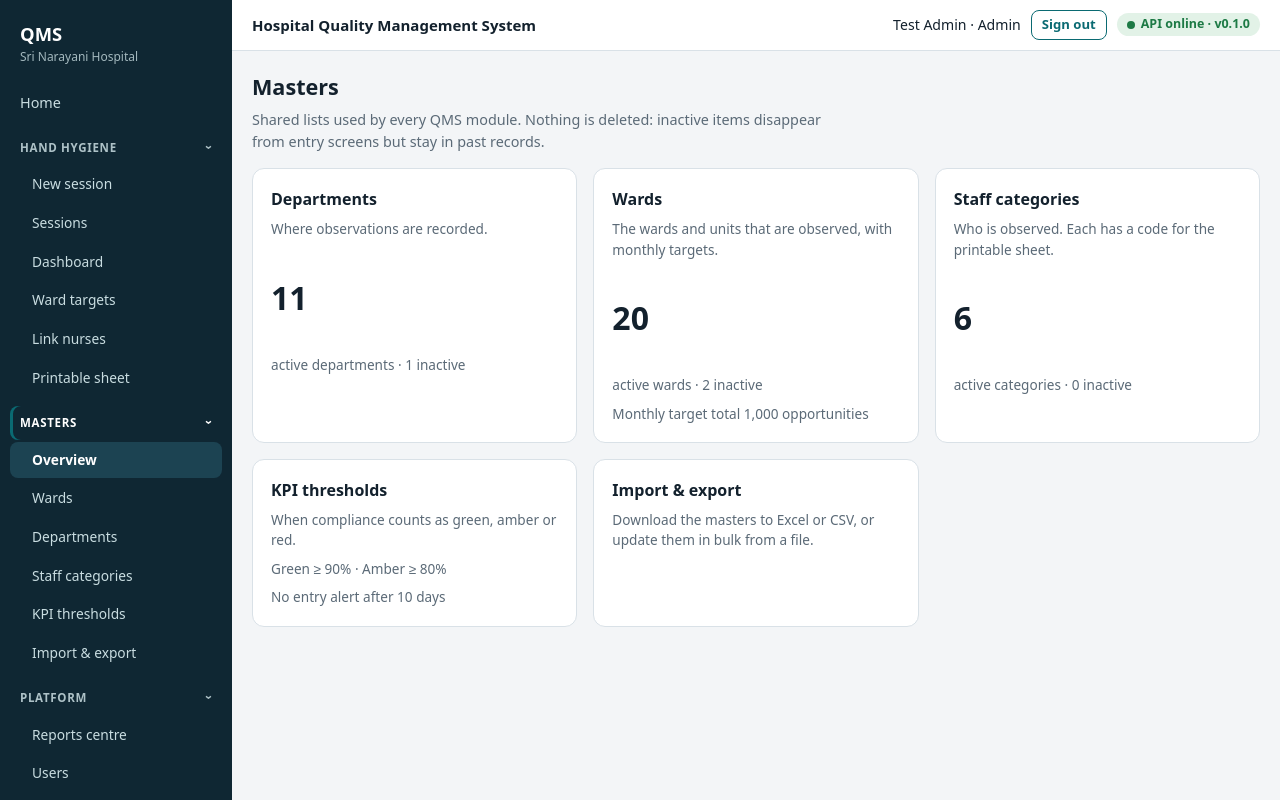
Test case: Masters overview › menu links route to each master page
The width and height of the screenshot is (1280, 800).
Expected: the text "Monthly target total 1,000 opportunities" is shown, [612,404,900,424]
Click the link "Wards" below "Overview" at (52, 498), box [32,488,73,507]
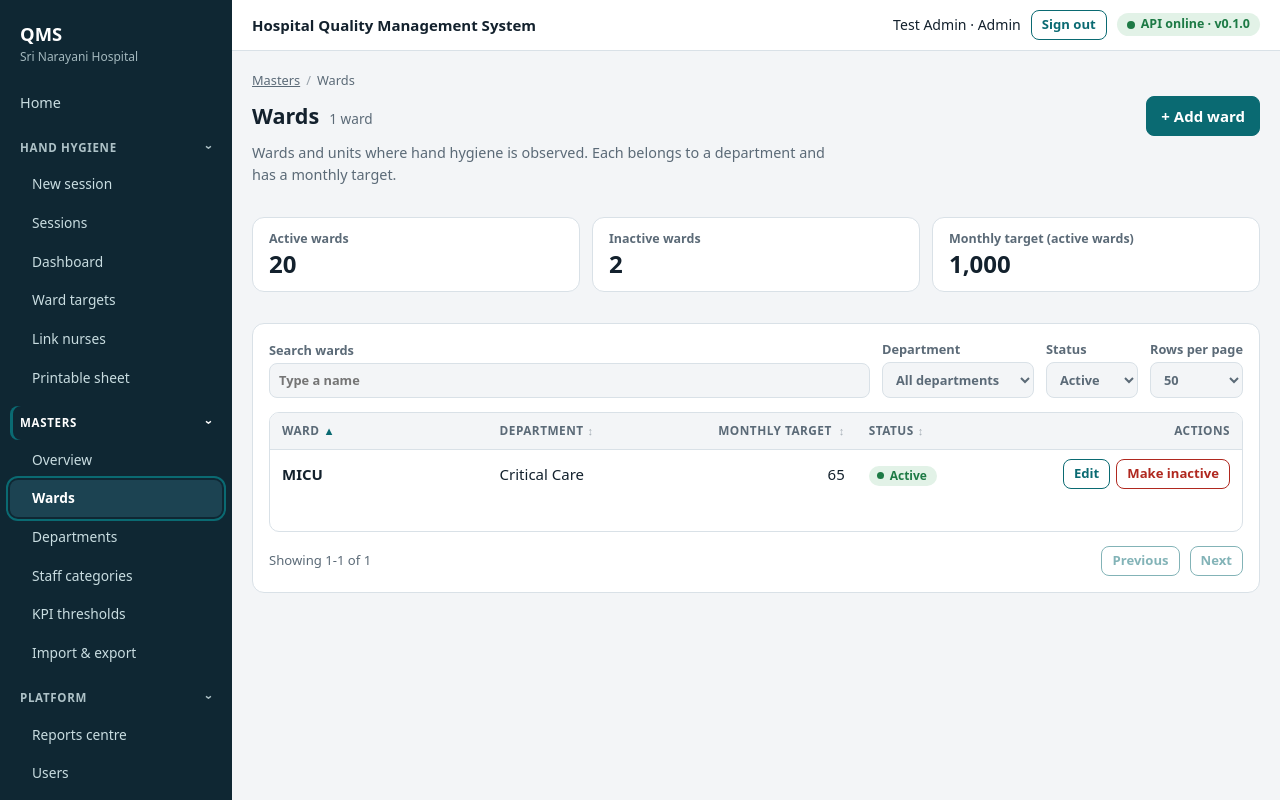
Result: the heading "Wards" is shown at [252,100,319,132]
Click the link "KPI thresholds" at (79, 614), box [32,604,126,623]
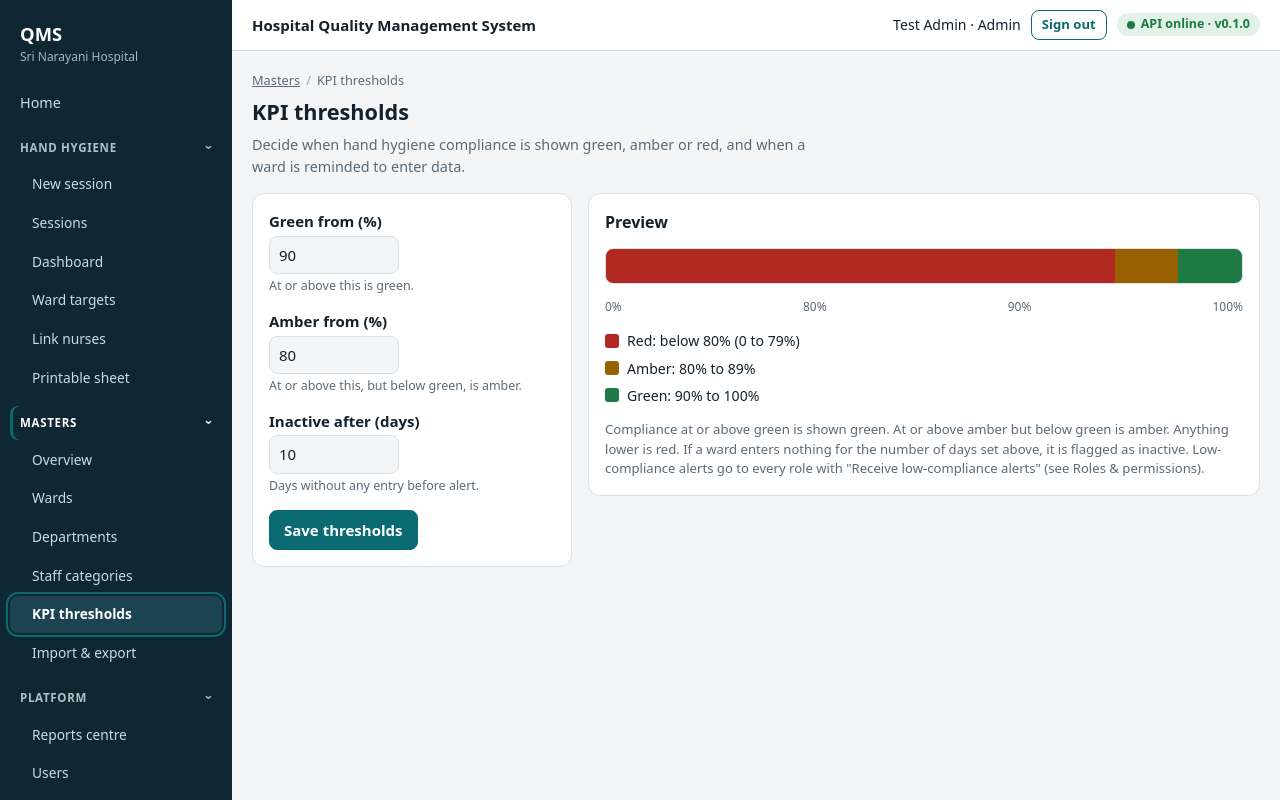
Result: the heading "KPI thresholds" is shown at [252,96,409,128]
Click the link "Import & export" at (84, 652), box [32,643,136,662]
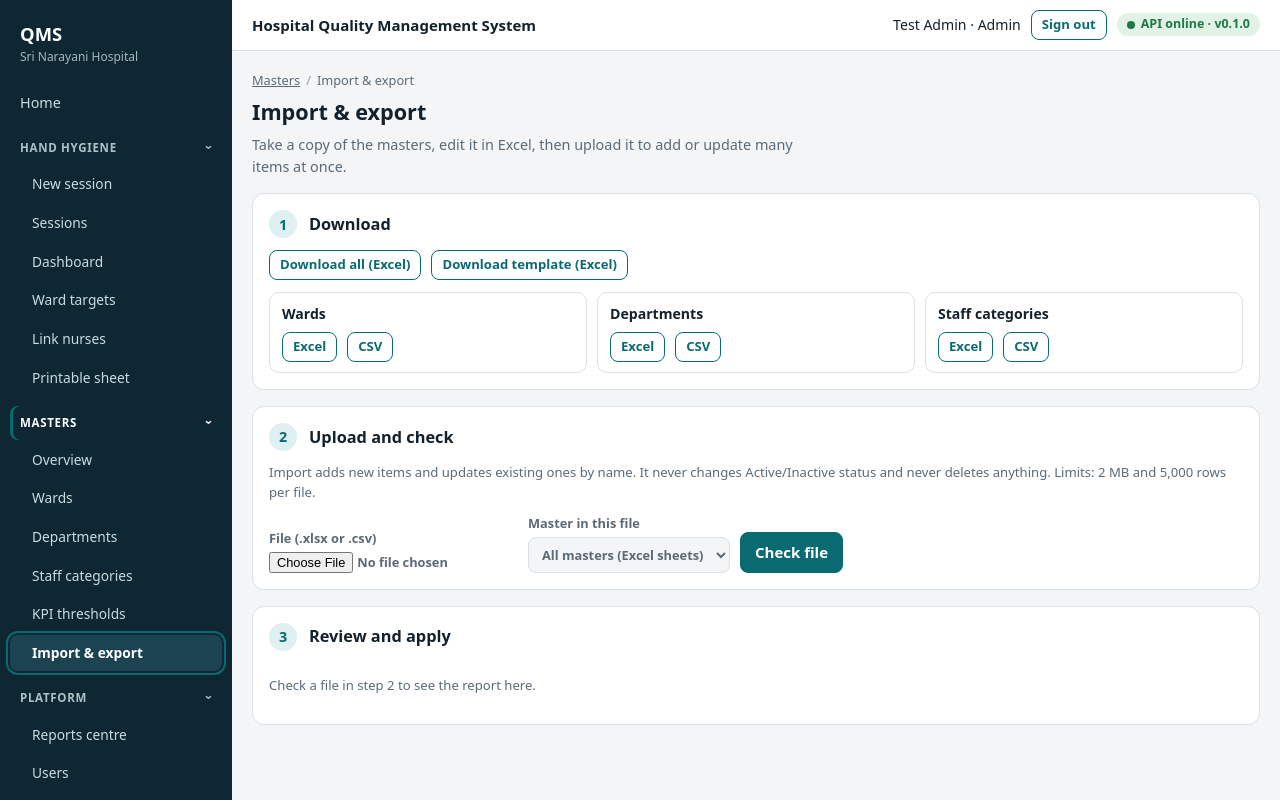
Result: the heading "Import & export" is shown at [252,96,426,128]
